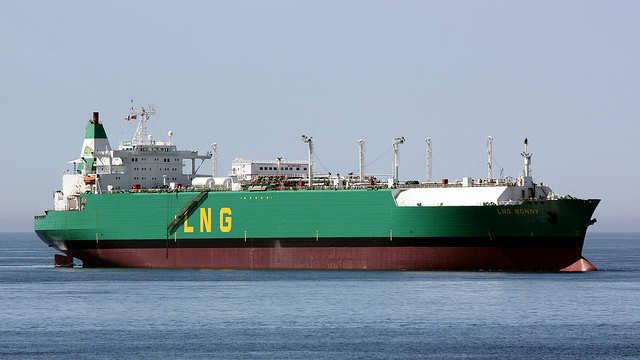LNG_ship: (32, 98, 611, 272)
